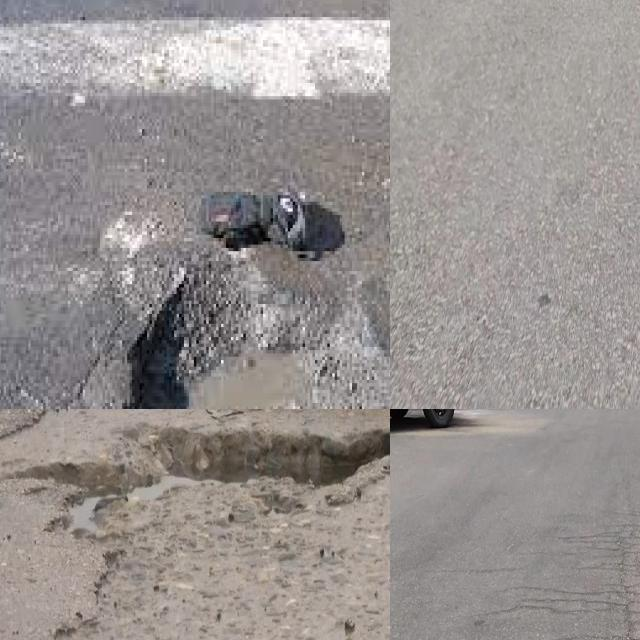Pothole: (12, 409, 390, 640), (49, 456, 390, 640), (123, 281, 390, 409), (120, 427, 390, 484), (19, 466, 146, 493)
